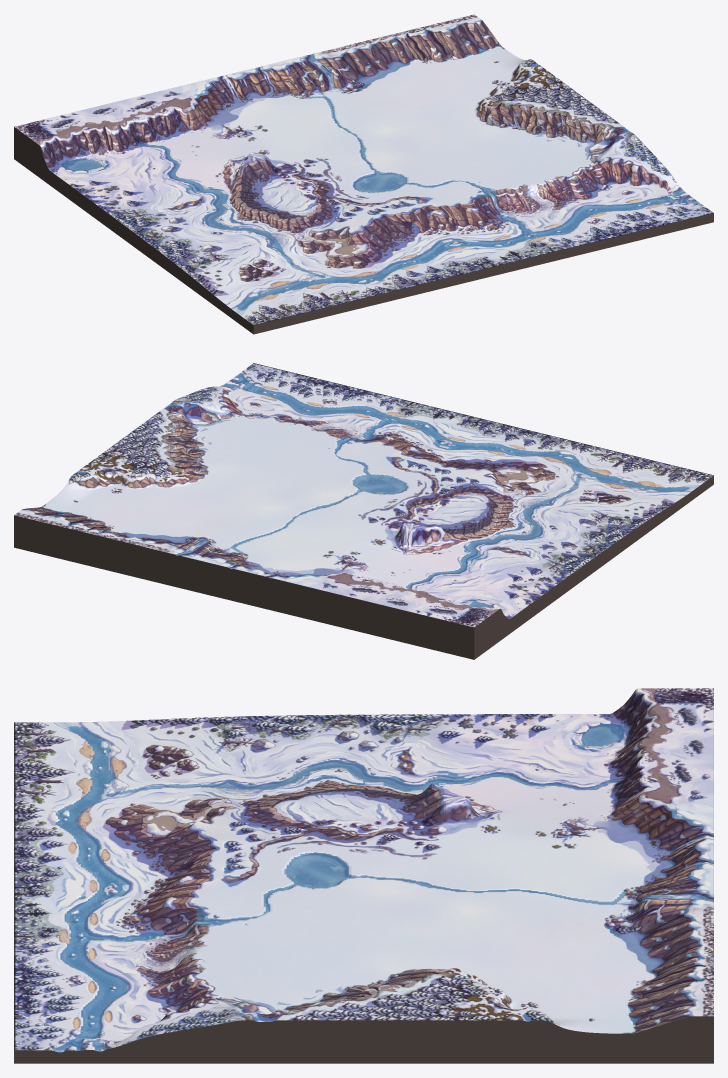
The model's file is dorfmap_c20_z25.obj.
3 views of the same model, one above another, from view 1: azimuth 30°, elevation 25°; view 2: azimuth 150°, elevation 25°; view 3: azimuth 270°, elevation 25° (orthographic). The views are drawn at different scales.
Visible parts, largest first — view 1: SCHNEE, KLIPPE_WAND, WALD, SOCKEL, WASSER_EIS, WASSER_OBERFLAECHE, KLIPPE_KANTE, FELS, SCHATTEN, BODEN, SAND; view 2: SCHNEE, SOCKEL, KLIPPE_WAND, WALD, WASSER_OBERFLAECHE, WASSER_EIS, FELS, SCHATTEN, KLIPPE_KANTE, BODEN, SAND; view 3: SCHNEE, KLIPPE_WAND, WALD, SOCKEL, WASSER_OBERFLAECHE, WASSER_EIS, SCHATTEN, FELS, KLIPPE_KANTE, BODEN, SAND.
Part boxes in pixels (x1=…): SCHNEE: x1=39, y1=16, x2=699, y2=317; KLIPPE_WAND: x1=35, y1=14, x2=669, y2=281; WALD: x1=53, y1=59, x2=713, y2=325; SOCKEL: x1=14, y1=127, x2=713, y2=334; WASSER_EIS: x1=61, y1=27, x2=699, y2=310; WASSER_OBERFLAECHE: x1=61, y1=27, x2=699, y2=310; KLIPPE_KANTE: x1=41, y1=21, x2=665, y2=279; FELS: x1=14, y1=53, x2=690, y2=299; SCHATTEN: x1=49, y1=19, x2=662, y2=296; BODEN: x1=35, y1=63, x2=609, y2=255; SAND: x1=255, y1=198, x2=662, y2=300; SCHNEE: x1=17, y1=367, x2=702, y2=620; SOCKEL: x1=14, y1=475, x2=713, y2=659; KLIPPE_WAND: x1=14, y1=389, x2=631, y2=622; WALD: x1=68, y1=363, x2=713, y2=615; WASSER_OBERFLAECHE: x1=50, y1=373, x2=688, y2=608; WASSER_EIS: x1=50, y1=373, x2=688, y2=607; FELS: x1=76, y1=380, x2=654, y2=627; SCHATTEN: x1=21, y1=381, x2=674, y2=618; KLIPPE_KANTE: x1=23, y1=390, x2=629, y2=620; BODEN: x1=124, y1=406, x2=498, y2=612; SAND: x1=260, y1=385, x2=662, y2=488; SCHNEE: x1=14, y1=688, x2=713, y2=1050; KLIPPE_WAND: x1=104, y1=694, x2=713, y2=1042; WALD: x1=14, y1=714, x2=709, y2=1050; SOCKEL: x1=14, y1=1016, x2=713, y2=1063; WASSER_OBERFLAECHE: x1=53, y1=724, x2=713, y2=1050; WASSER_EIS: x1=53, y1=724, x2=713, y2=1052; SCHATTEN: x1=44, y1=713, x2=713, y2=1021; FELS: x1=76, y1=688, x2=713, y2=1050; KLIPPE_KANTE: x1=131, y1=690, x2=711, y2=1035; BODEN: x1=16, y1=688, x2=676, y2=1012; SAND: x1=60, y1=741, x2=124, y2=1028.
Bounding box in the file's own units: 336 × 22.6 × 303.
Materials: 3 (1 with a texture image).
